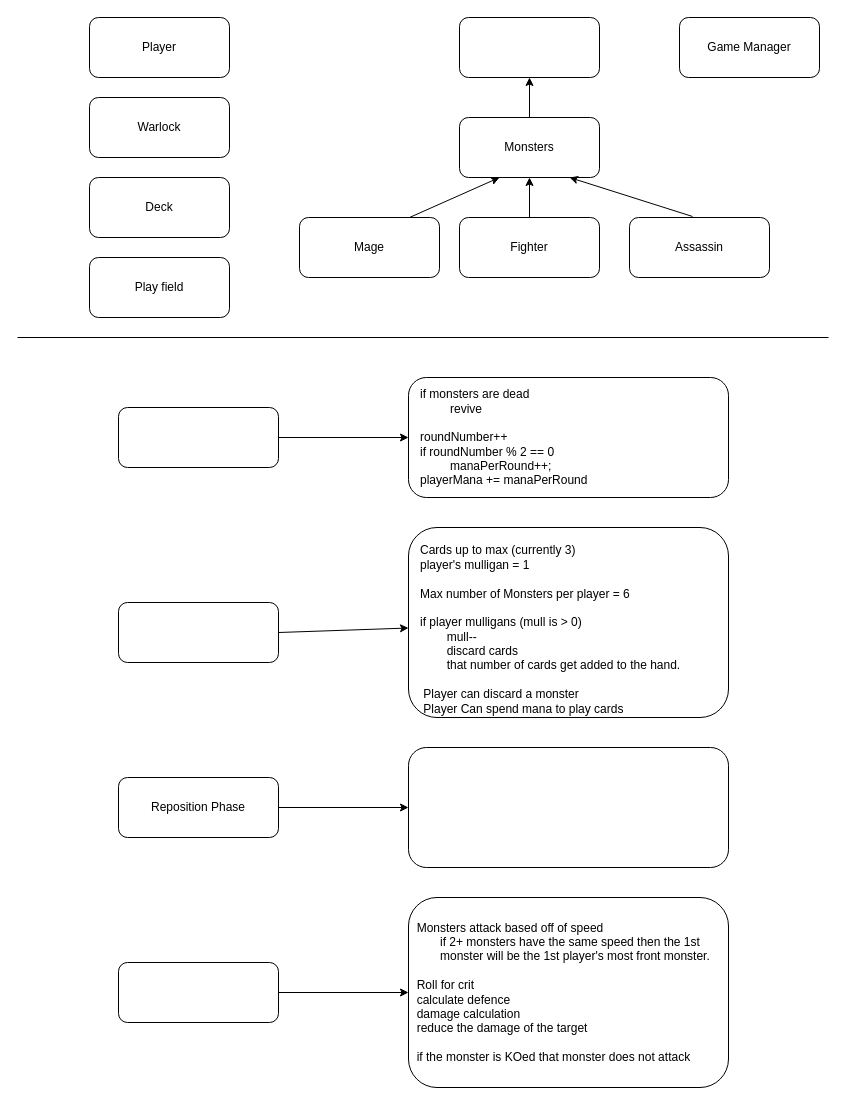
The diagram is 847 pixels wide and 1105 high, and some of its shapes have lost their labels. The shapes that lost their labels are listed below. From the top down, each one's box as (x1, y1, x2, y2) in pixels, then its label:
(458, 16, 600, 78): Cards
(118, 406, 278, 468): Start Round Phase
(118, 602, 278, 662): Draft Phase
(408, 746, 728, 868): Players can reposition monsters how they want
(118, 962, 278, 1022): Attack Phase
